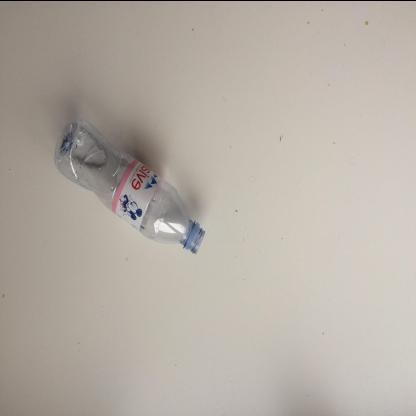plastik: (54, 117, 207, 253)
